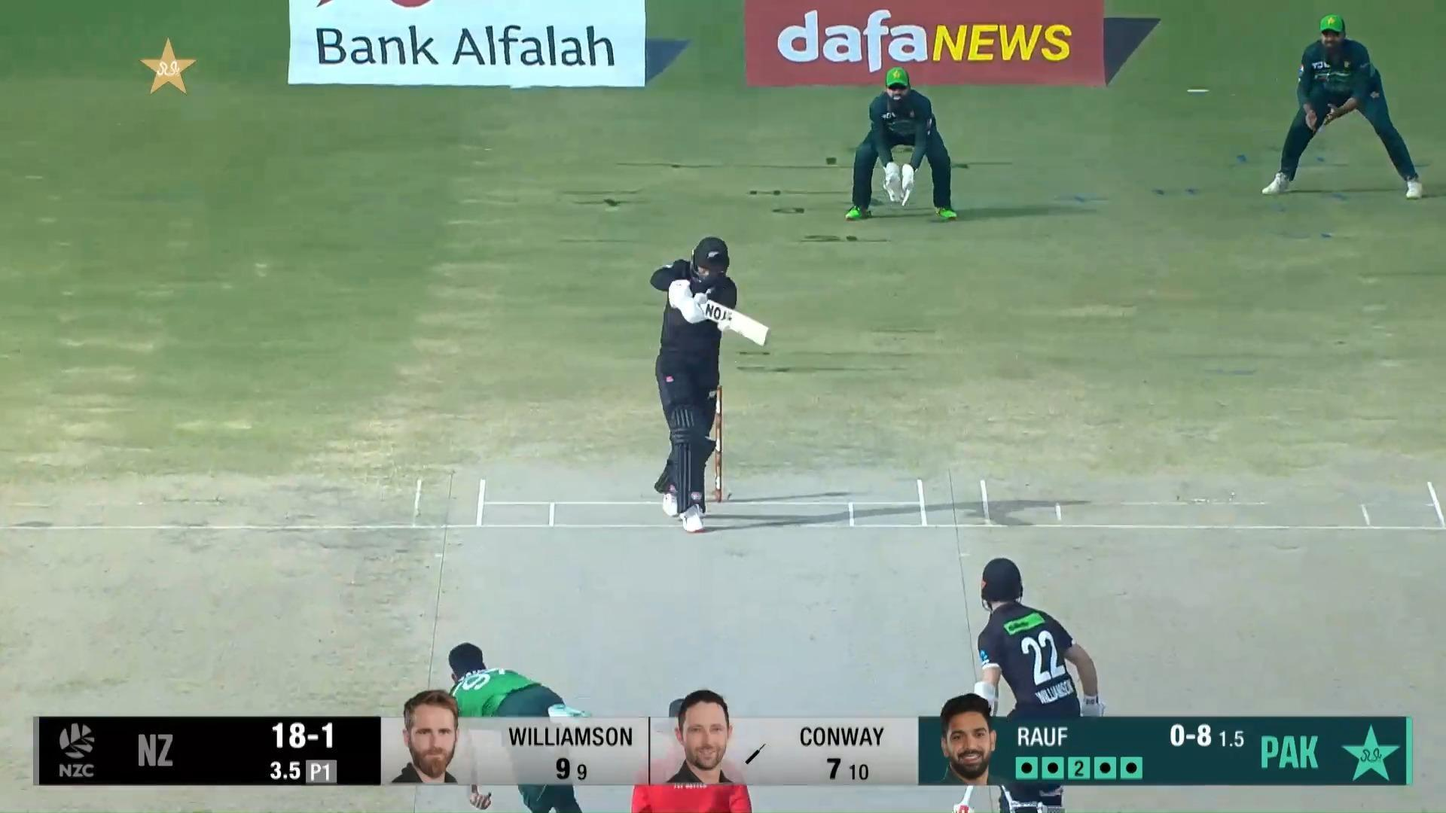BM 1: (649, 236, 771, 533)
BO: (446, 641, 597, 813)
